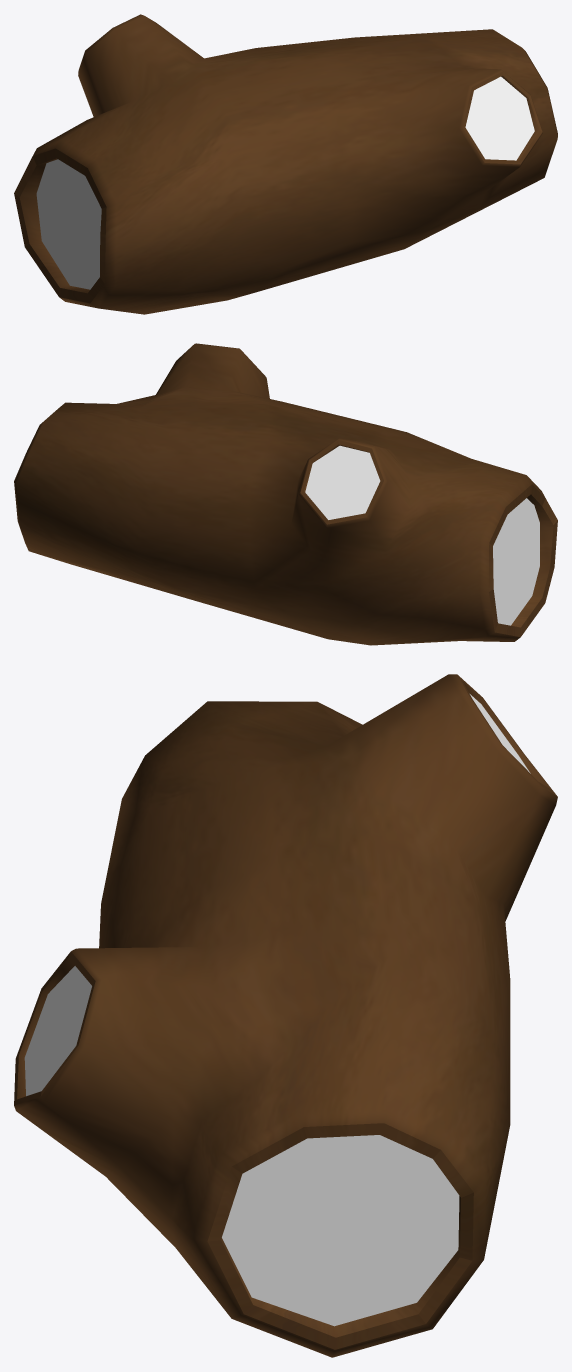
The model's file is Log_3.glb.
3 views of the same model, one above another, from view 1: azimuth 30°, elevation 25°; view 2: azimuth 150°, elevation 25°; view 3: azimuth 270°, elevation 25° (orthographic). The views are drawn at different scales.
Parts seen in each view (by area): view 1: Cube.079; view 2: Cube.079; view 3: Cube.079.
Part boxes in pixels (box(x1,y1,x2,y2)): Cube.079: box(14, 14, 557, 314); Cube.079: box(14, 343, 557, 645); Cube.079: box(14, 674, 557, 1357).
Size of the model in its own units: 1.13 by 0.537 by 0.6325.
2 materials, 1 textured.
